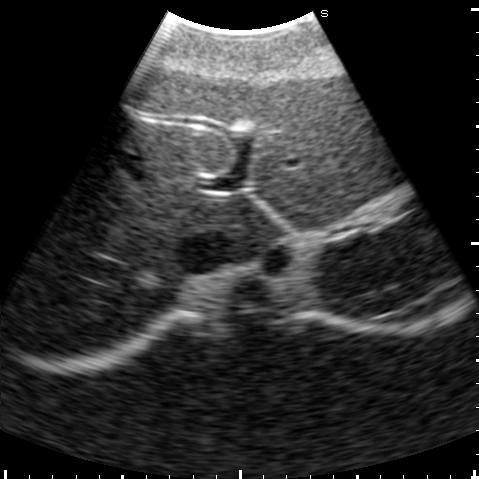IVC: (172, 229, 235, 276)
S1: (216, 195, 287, 262)
S2: (255, 168, 405, 231)
S3: (239, 73, 398, 203)
